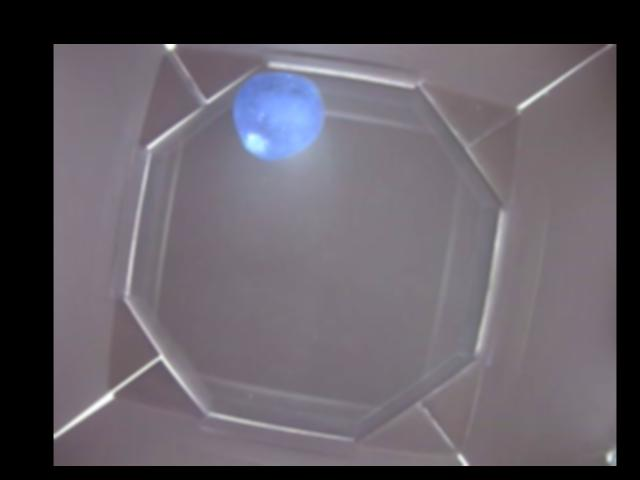Potato: (232, 72, 323, 160)
